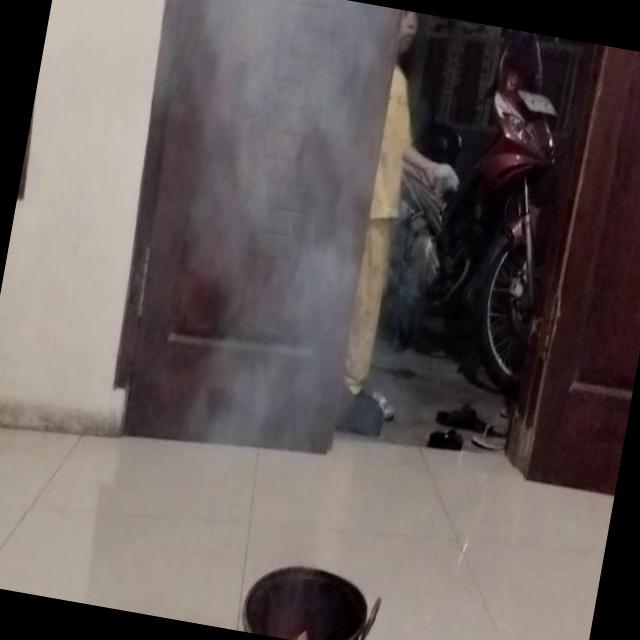smoke: (134, 0, 425, 506)
